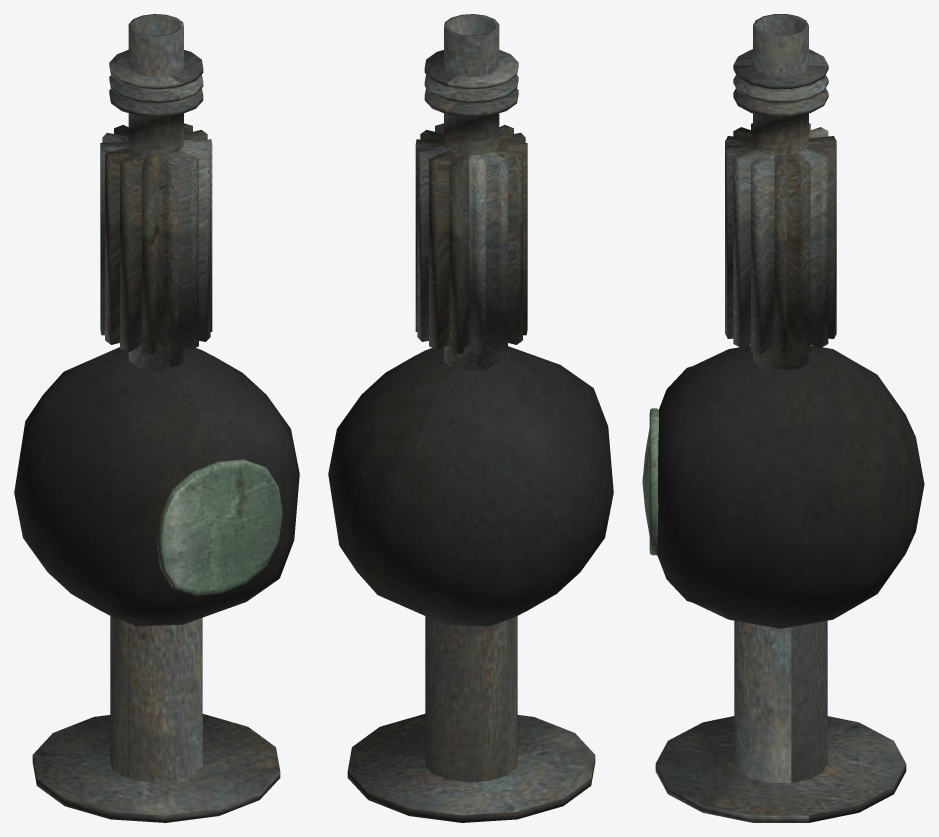
The model's file is Stove01-model.fbx.
3 views of the same model, side by side, from view 1: azimuth 30°, elevation 25°; view 2: azimuth 150°, elevation 25°; view 3: azimuth 270°, elevation 25° (orthographic).
Visible parts, largest first — view 1: stove_MainStove_stove; view 2: stove_MainStove_stove; view 3: stove_MainStove_stove.
Part boxes in pixels (x1=…): stove_MainStove_stove: x1=14, y1=14, x2=299, y2=822; stove_MainStove_stove: x1=328, y1=14, x2=613, y2=822; stove_MainStove_stove: x1=642, y1=14, x2=924, y2=822.
Size of the model in its own units: 4.16 by 11.9 by 4.08.
Materials: 1 (1 with a texture image).
